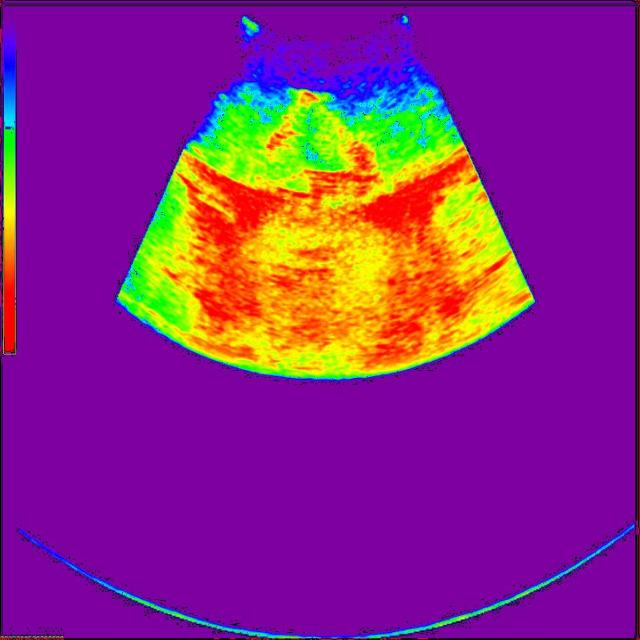chicken muscle post: (262, 91, 381, 203)
